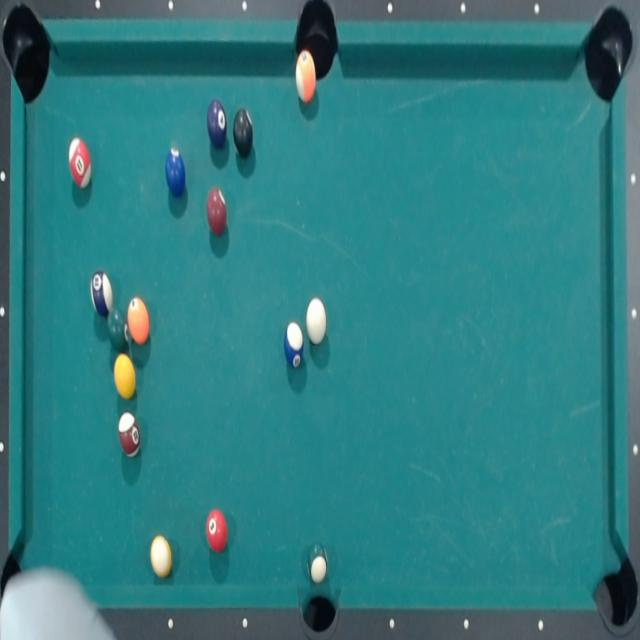black_8ball: (232, 107, 255, 160)
blue_solid: (164, 146, 187, 199)
blue_stripe: (283, 321, 307, 369)
cue_ball: (306, 297, 328, 345)
green_solid: (107, 309, 129, 355)
green_stripe: (306, 542, 330, 586)
maroon_solid: (206, 186, 227, 236)
maroon_stripe: (117, 411, 141, 460)
orange_solid: (126, 296, 152, 346)
orange_stripe: (294, 49, 318, 105)
player_body: (0, 564, 123, 639)
playr: (206, 98, 228, 148)
purple_solid: (90, 268, 115, 316)
purple_stripe: (205, 508, 230, 554)
red_solid: (67, 136, 94, 189)
yellow_solid: (113, 353, 138, 400), (150, 534, 173, 580)
